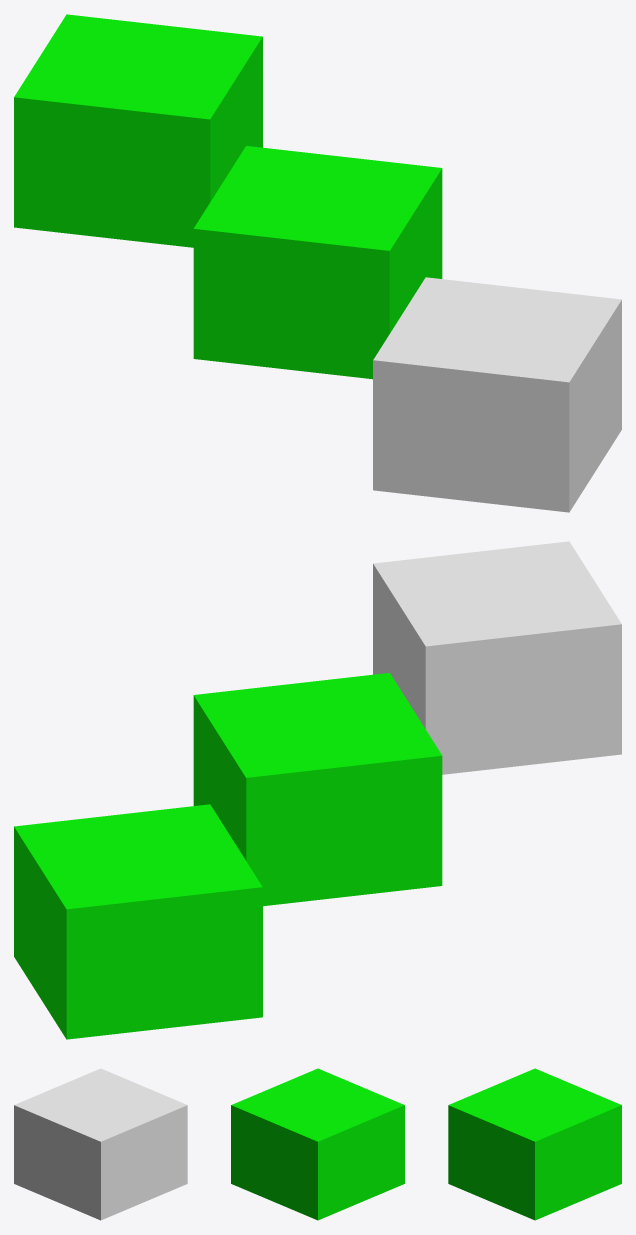
The picture shows the model from 3 angles, top to bottom: view 1: azimuth 30°, elevation 25°; view 2: azimuth 150°, elevation 25°; view 3: azimuth 270°, elevation 25°; orthographic projection. The views are drawn at different scales.
Bounding box in the file's own units: 0.02 × 0.01 × 0.07.
